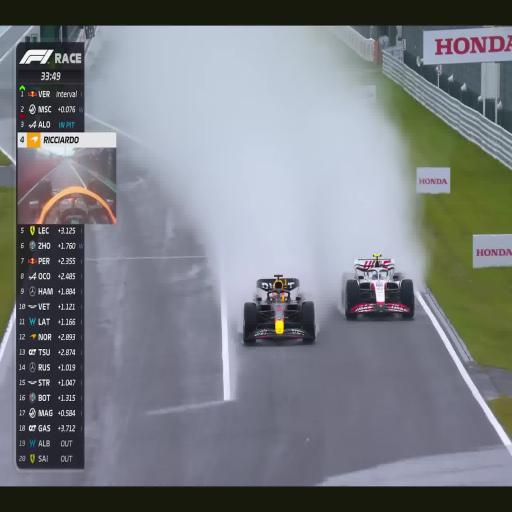f1_car: (243, 274, 315, 344), (342, 253, 415, 318)
